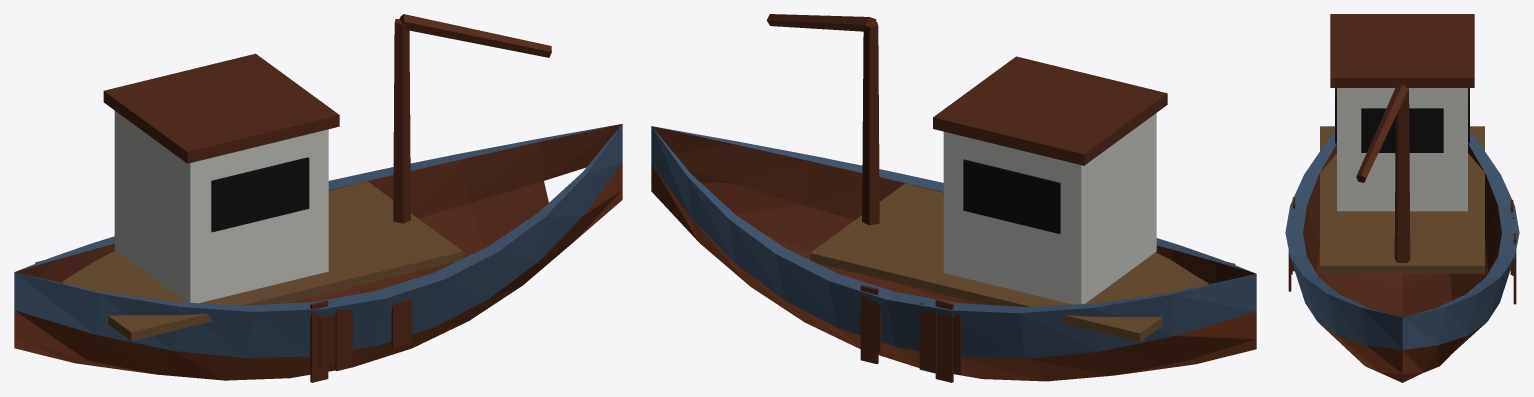
Rendered from boat_wreck.glb.
3 views of the same model, side by side, from view 1: azimuth 30°, elevation 25°; view 2: azimuth 150°, elevation 25°; view 3: azimuth 270°, elevation 25° (orthographic). The views are drawn at different scales.
Parts seen in each view (by area): view 1: boat_wreck2; view 2: boat_wreck2; view 3: boat_wreck2.
Part boxes in pixels (<box>): boat_wreck2: <box>14,14,622,382</box>; boat_wreck2: <box>651,14,1256,382</box>; boat_wreck2: <box>1285,14,1519,382</box>.
Bounding box in the file's own units: 4.4 × 2.23 × 1.7.
